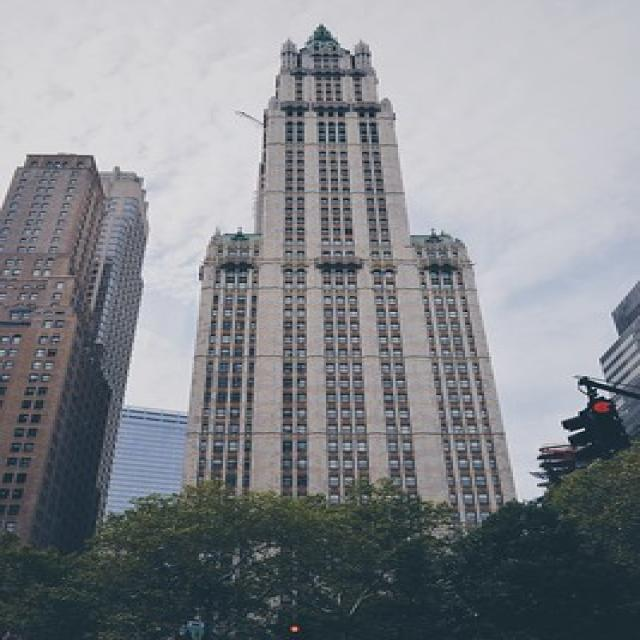building: (176, 16, 531, 613)
